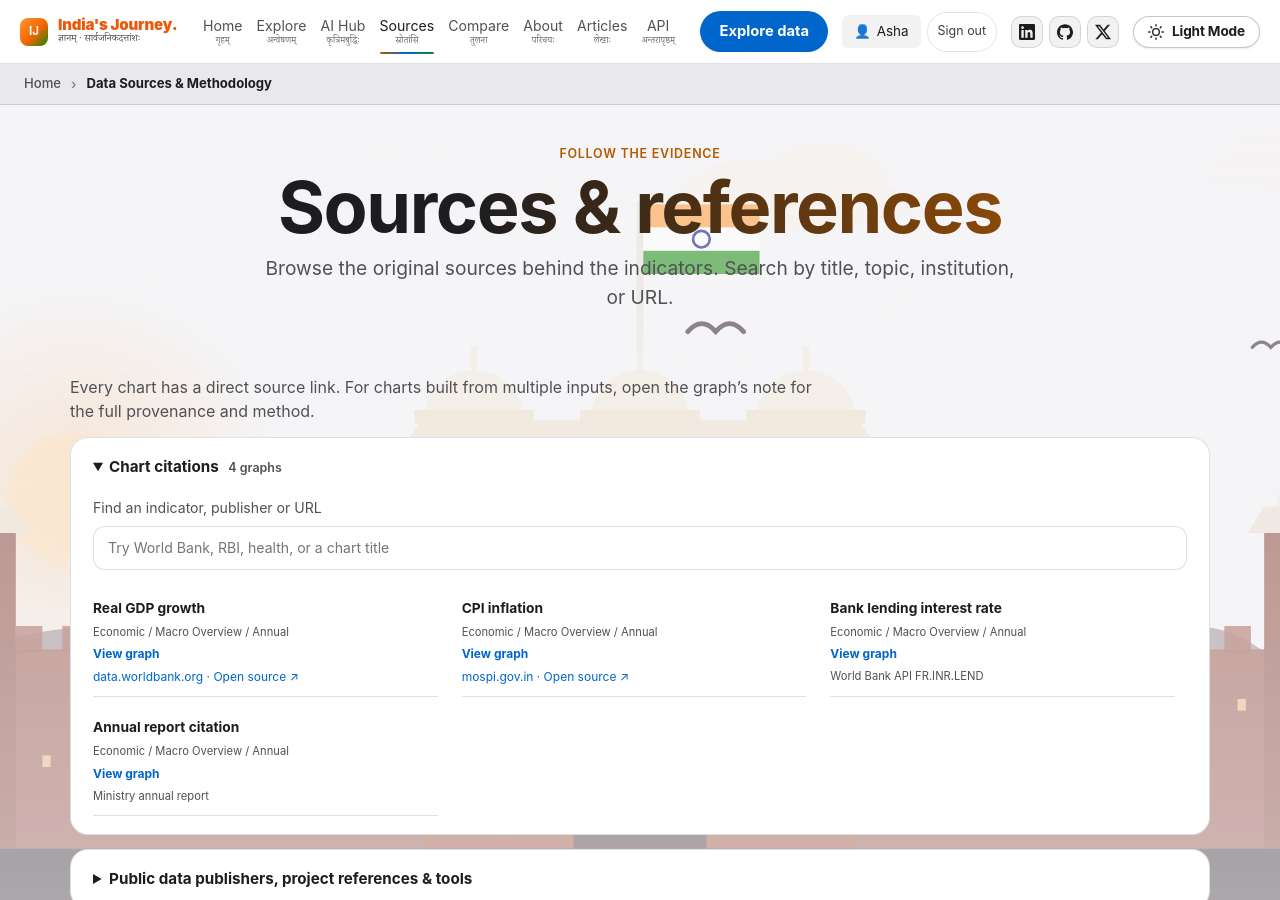
Test: Sources › shows a standalone searchable source directory without the Explore page
Expected: the heading "Sources & references" is shown, [70, 170, 1210, 245]
Expected: the text "Real GDP growth" is shown, [93, 600, 205, 616]
Type "mospi" into the search field labelled "Find an indicator, publisher or URL".
click(640, 548); type("mospi")  # box [93, 526, 1187, 570]
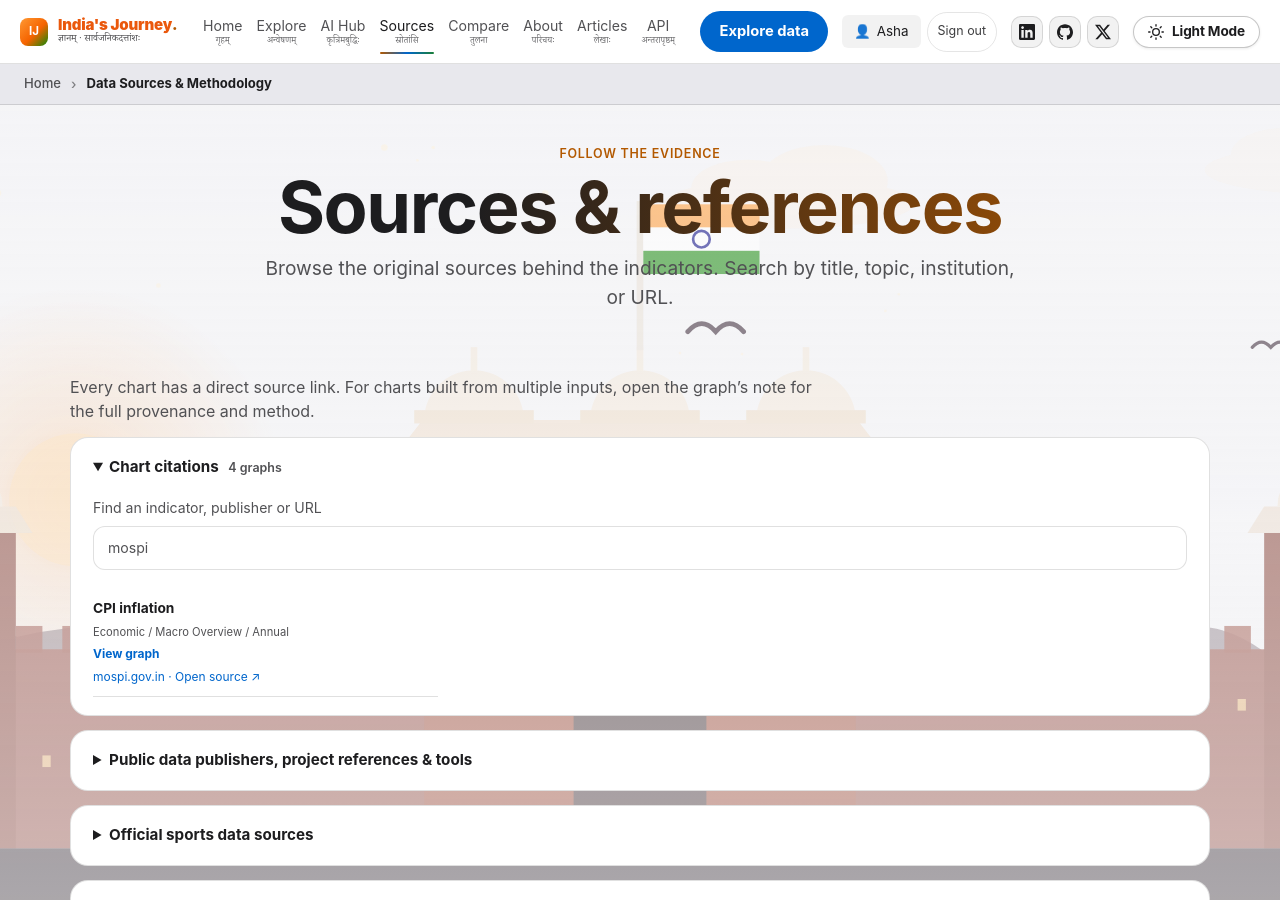
Expected: the text "CPI inflation" is shown, [93, 600, 174, 616]
Result: the text "Real GDP growth" is gone
